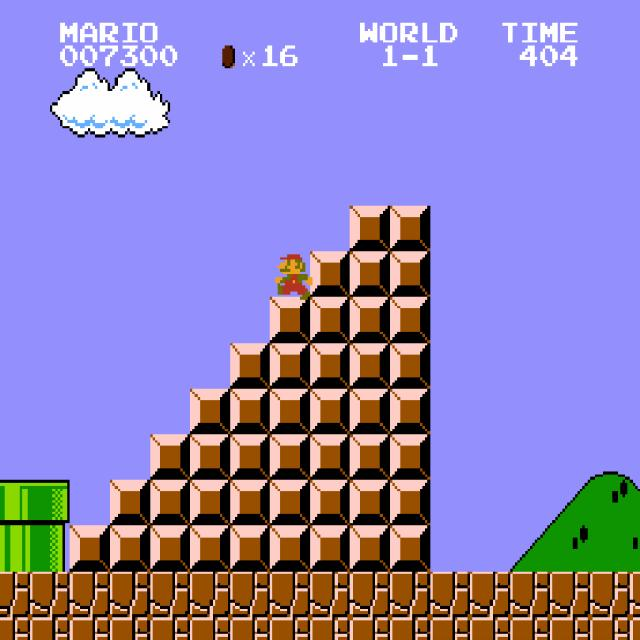hard_block: (110, 480, 150, 526), (150, 434, 190, 480), (150, 480, 190, 526), (190, 434, 230, 480), (190, 480, 230, 526), (230, 434, 270, 480), (230, 480, 270, 526), (270, 297, 310, 343), (270, 434, 310, 480), (270, 480, 310, 526), (310, 297, 350, 343), (310, 434, 350, 480), (310, 480, 350, 526), (350, 297, 390, 343), (350, 434, 390, 480), (350, 480, 390, 526), (390, 297, 430, 343), (390, 434, 430, 480), (390, 480, 430, 526), (70, 526, 110, 571), (110, 526, 150, 571), (150, 526, 190, 571), (190, 389, 230, 434), (190, 526, 230, 571), (230, 343, 270, 388), (230, 389, 270, 434), (230, 526, 270, 571), (270, 343, 310, 388), (270, 389, 310, 434), (270, 526, 310, 571), (310, 252, 350, 297), (310, 343, 350, 388), (310, 389, 350, 434), (310, 526, 350, 571), (350, 206, 390, 251), (350, 252, 390, 297), (350, 343, 390, 388), (350, 389, 390, 434), (350, 526, 390, 571), (390, 206, 430, 251), (390, 252, 430, 297), (390, 343, 430, 388), (390, 389, 430, 434), (390, 526, 430, 571)
little_mario: (270, 251, 312, 300)
pipe: (30, 526, 70, 571), (0, 526, 30, 571)
pipe_head: (30, 480, 70, 526), (0, 480, 30, 526)
undestructible_block: (30, 572, 70, 617), (70, 572, 110, 617), (110, 572, 150, 617), (150, 572, 190, 617), (190, 572, 230, 617), (230, 572, 270, 617), (270, 572, 310, 617), (310, 572, 350, 617), (350, 572, 390, 617), (390, 572, 430, 617), (430, 572, 470, 617), (470, 572, 510, 617), (510, 572, 550, 617), (550, 572, 590, 617), (590, 572, 630, 617), (0, 572, 30, 617), (30, 617, 70, 640), (70, 617, 110, 640), (110, 617, 150, 640), (150, 617, 190, 640), (190, 617, 230, 640), (230, 617, 270, 640), (270, 617, 310, 640), (310, 617, 350, 640), (350, 617, 390, 640), (390, 617, 430, 640), (430, 617, 470, 640), (470, 617, 510, 640), (510, 617, 550, 640), (550, 617, 590, 640), (590, 617, 630, 640), (0, 617, 30, 640), (629, 571, 640, 617), (629, 617, 640, 639)
